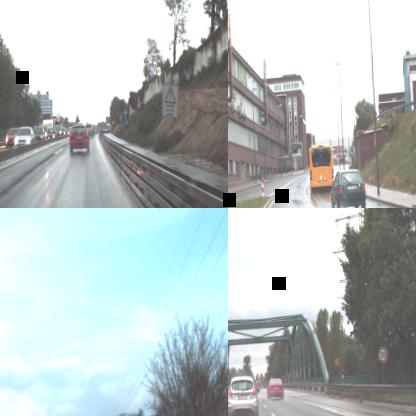DANGER: (164, 84, 176, 104)
speed limit 100: (376, 346, 388, 364)
